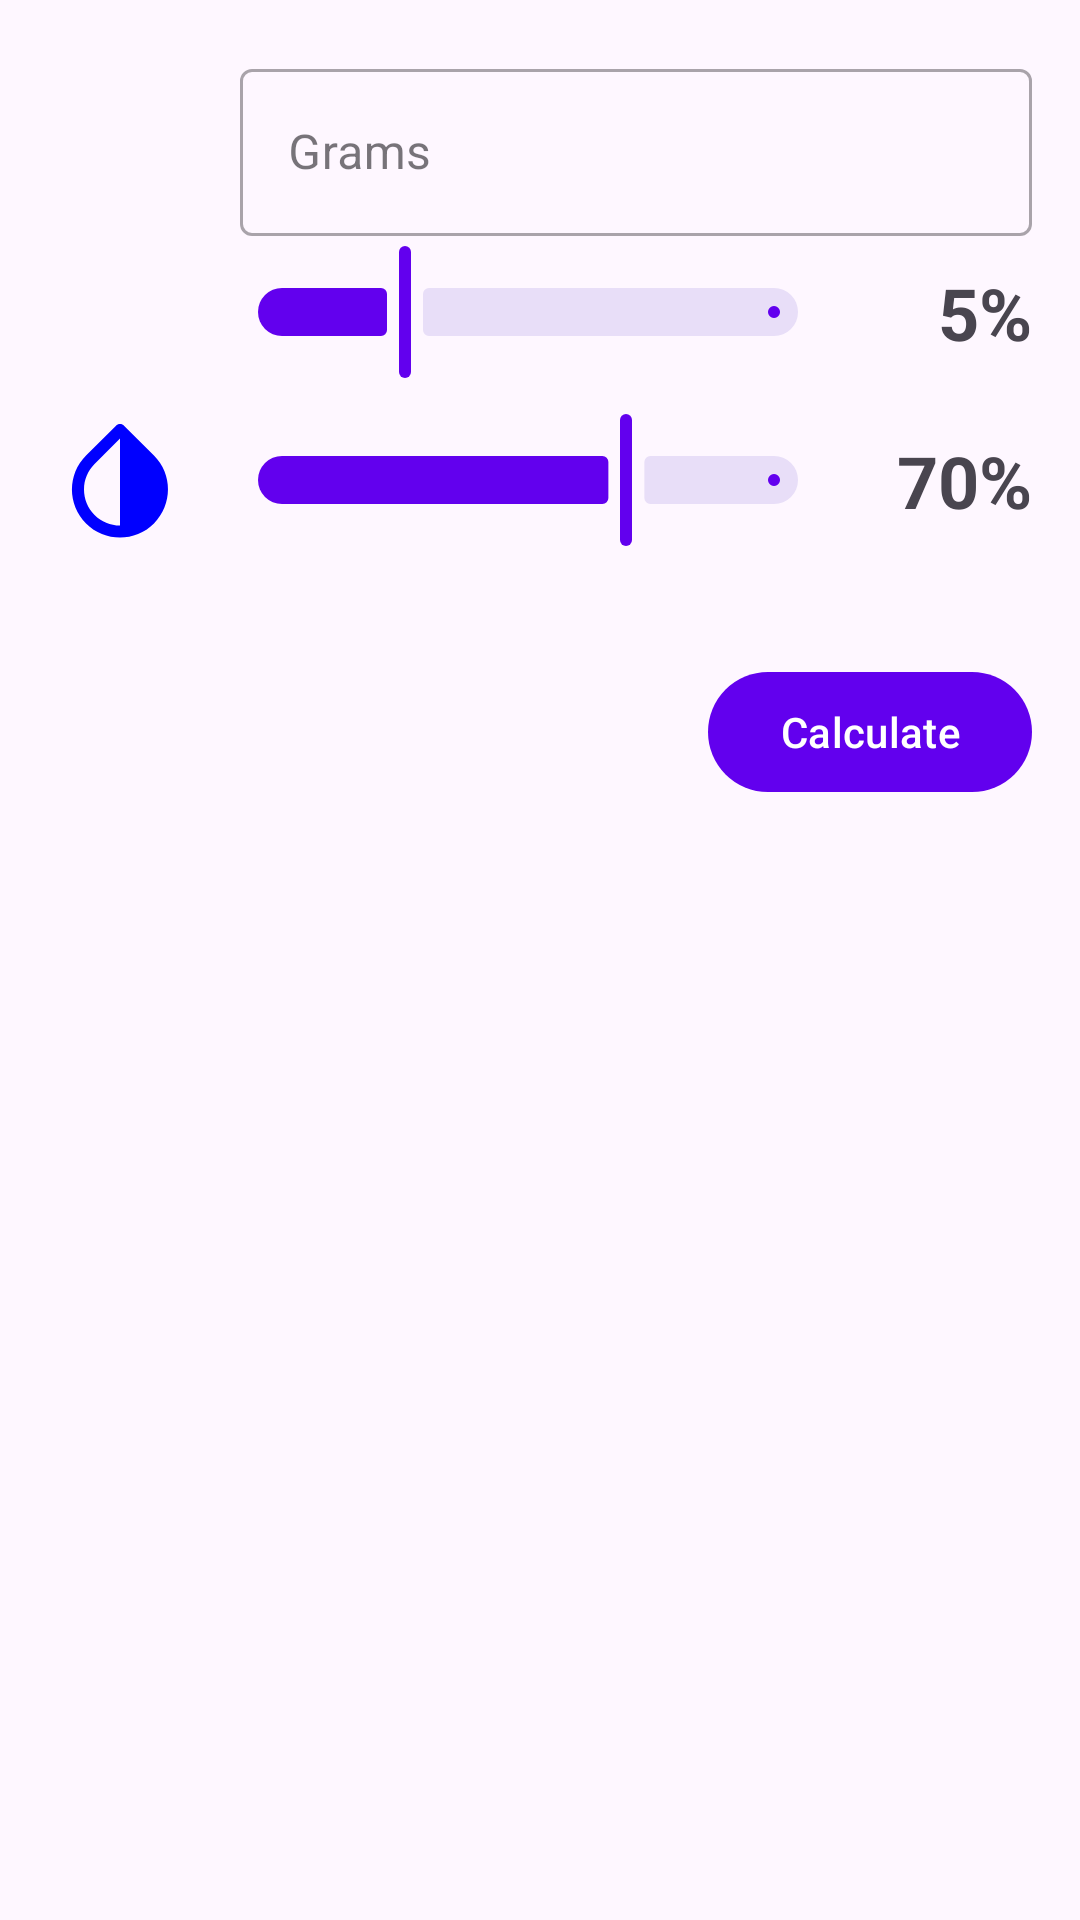

Icon click points for this 1080w x 1920h phone screenshot, format (x=x, y=y):
invert colors: (x=120, y=481)
